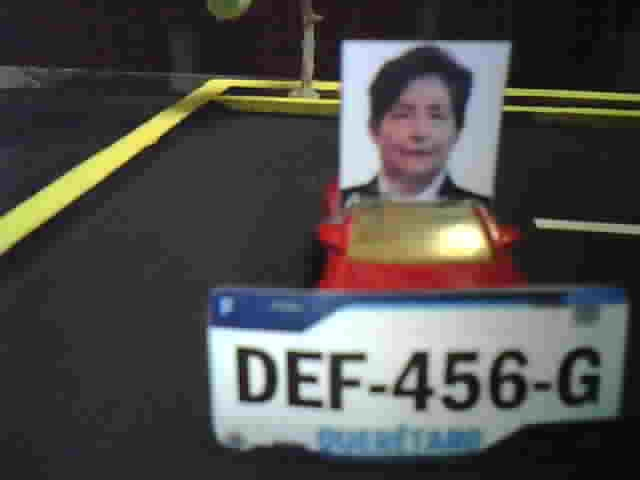PLACA: (200, 283, 633, 467)
ROSTRO: (341, 38, 493, 210)
